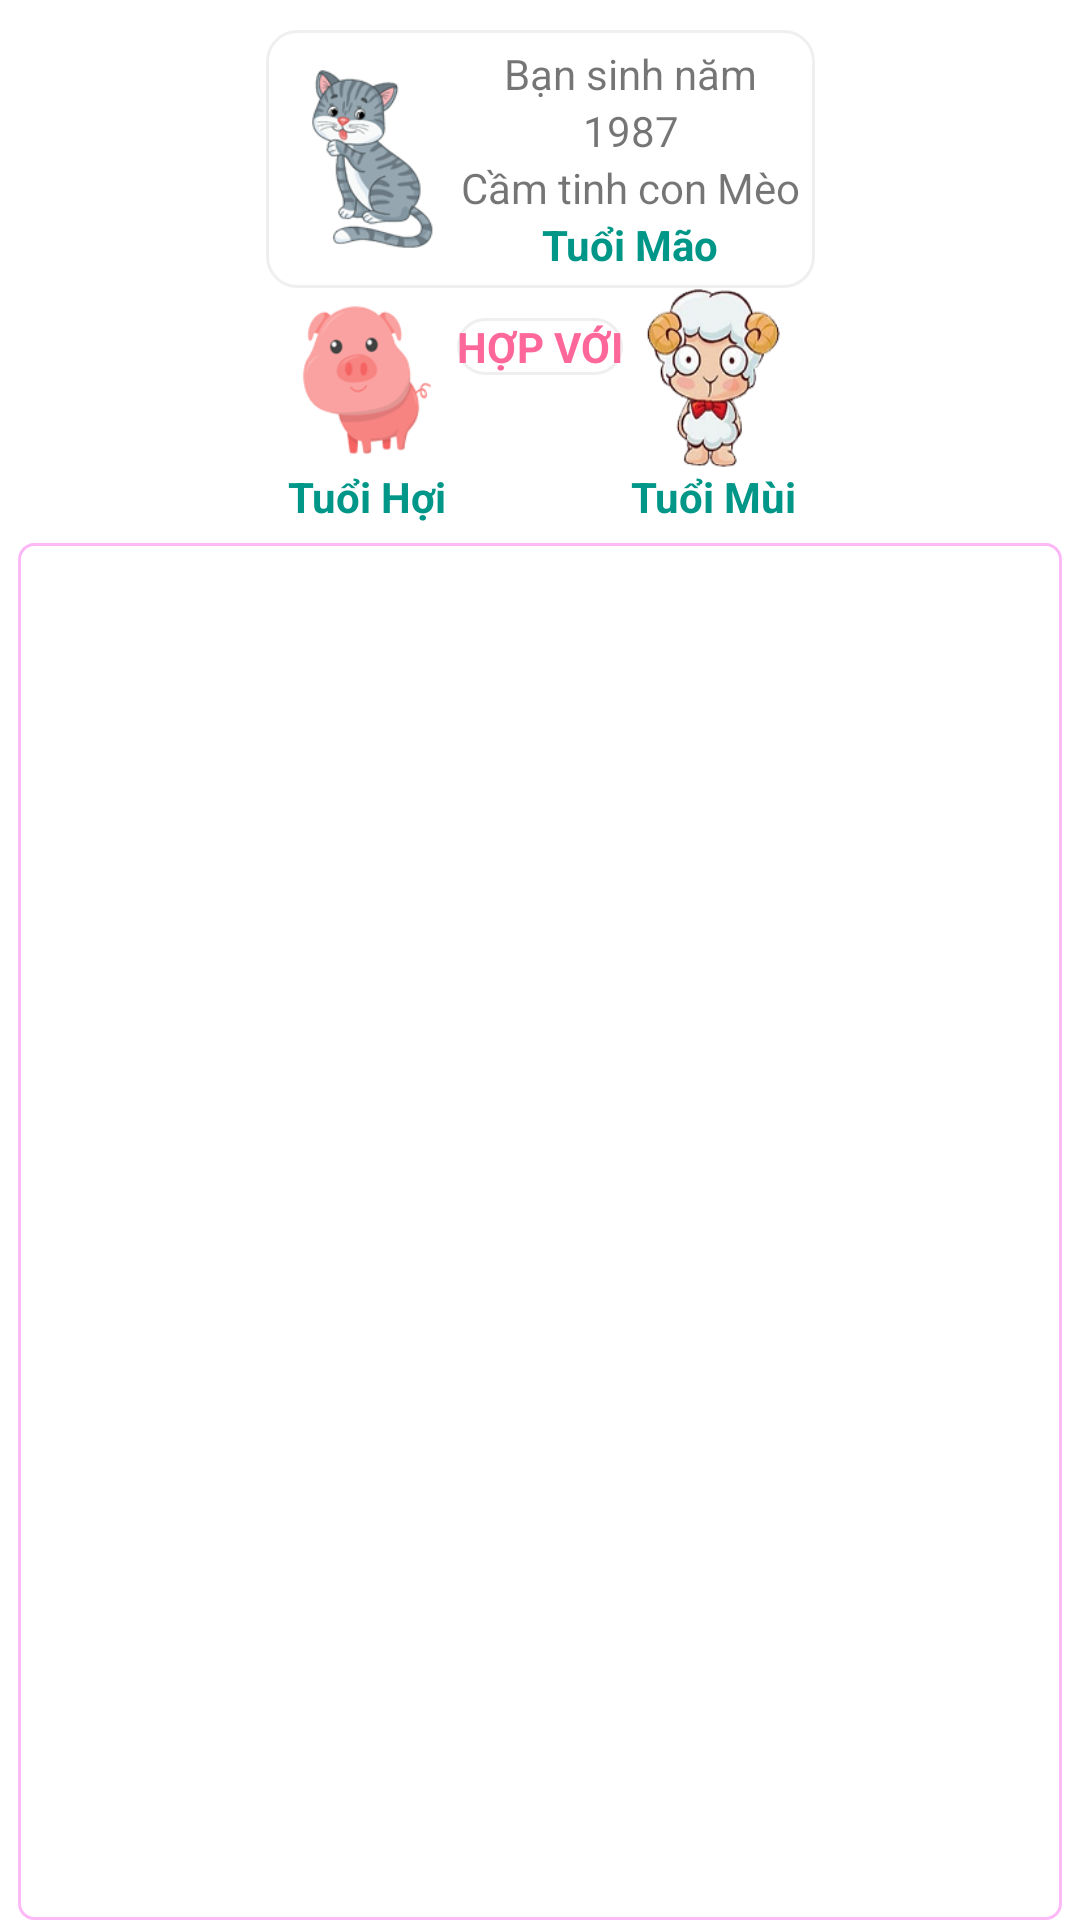

Icon bounding boxes for this 1080px×1920px phone screenshot, format {"left": x1, "top": y1, "right": x2, "bottom": y2}:
mao: {"left": 312, "top": 70, "right": 433, "bottom": 248}
